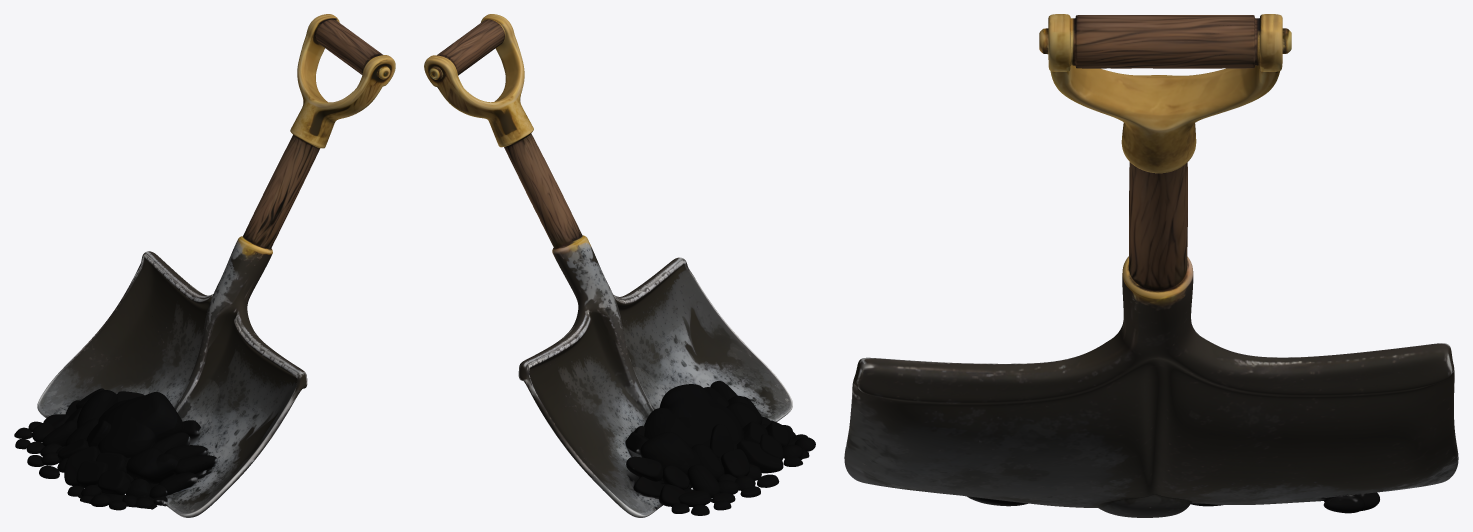
Rendered from lhi_coal_shovel_4k_texture.glb.
3 views of the same model, side by side, from view 1: azimuth 30°, elevation 25°; view 2: azimuth 150°, elevation 25°; view 3: azimuth 270°, elevation 25° (orthographic). The views are drawn at different scales.
Visible parts, largest first — view 1: material; view 2: material; view 3: material.
Part boxes in pixels (x1,y1,x2,y2): material: [14, 14, 395, 517]; material: [424, 14, 815, 517]; material: [844, 14, 1458, 517].
Size of the model in its own units: 0.7972 by 0.8679 by 0.6985.
1 material, 1 textured.
